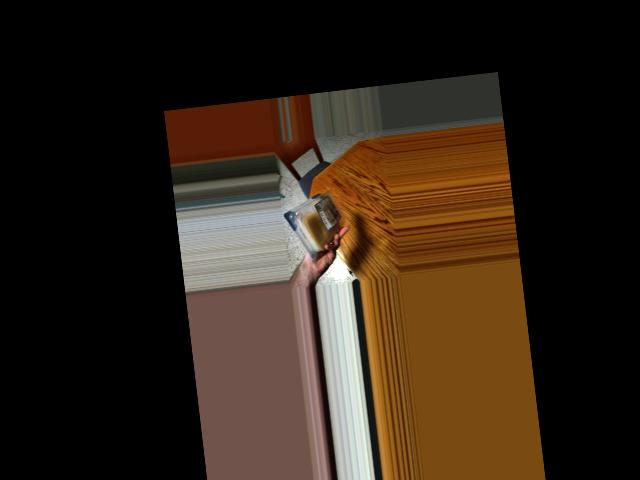cheese: (286, 190, 339, 261)
